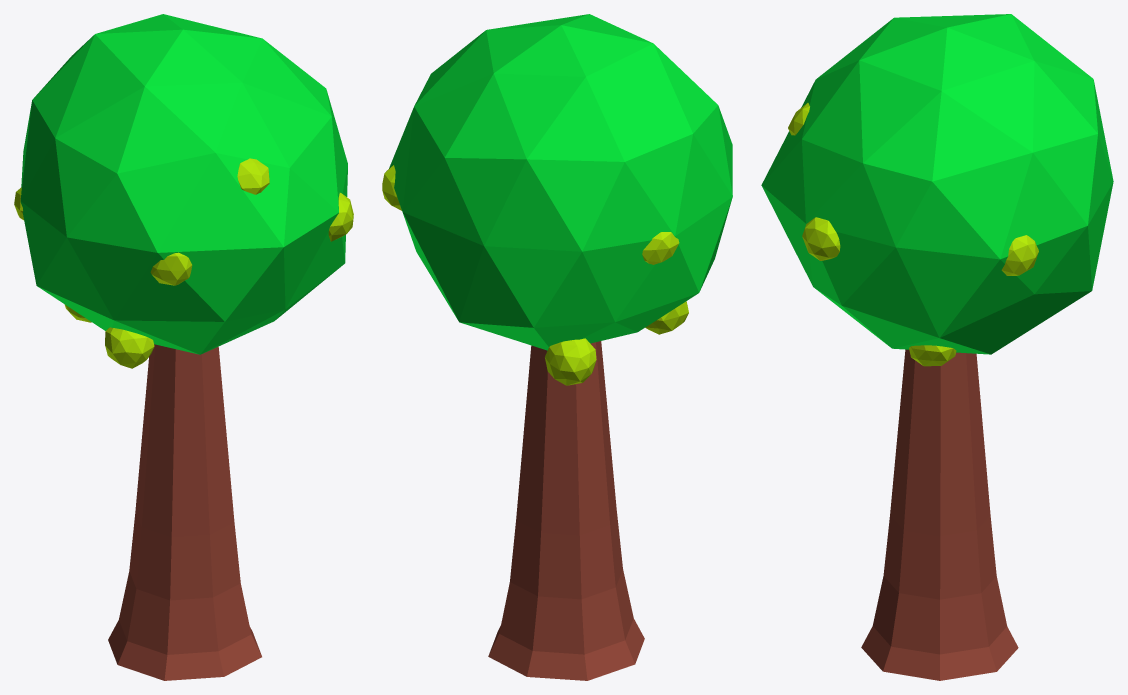
Rendered from PearTree.fbx.
3 views of the same model, side by side, from view 1: azimuth 30°, elevation 25°; view 2: azimuth 150°, elevation 25°; view 3: azimuth 270°, elevation 25° (orthographic).
Parts seen in each view (by area): view 1: Icosphere, Plane, Icosphere.007, Icosphere.001, Icosphere.010, Icosphere.004; view 2: Icosphere, Plane, Icosphere.002, Icosphere.003, Icosphere.007; view 3: Icosphere, Plane, Icosphere.004, Icosphere.005, Icosphere.009.
Boxes of the visible parts, left/top/right/bottom form: Icosphere: left=20, top=14, right=347, bottom=354; Plane: left=108, top=344, right=261, bottom=680; Icosphere.007: left=105, top=327, right=154, bottom=368; Icosphere.001: left=150, top=252, right=192, bottom=285; Icosphere.010: left=237, top=158, right=269, bottom=194; Icosphere.004: left=328, top=192, right=353, bottom=241; Icosphere: left=389, top=14, right=732, bottom=350; Plane: left=488, top=341, right=644, bottom=680; Icosphere.002: left=545, top=338, right=596, bottom=385; Icosphere.003: left=642, top=232, right=679, bottom=264; Icosphere.007: left=645, top=301, right=688, bottom=334; Icosphere: left=761, top=14, right=1113, bottom=354; Plane: left=861, top=349, right=1018, bottom=680; Icosphere.004: left=802, top=217, right=840, bottom=260; Icosphere.005: left=1001, top=235, right=1038, bottom=275; Icosphere.009: left=909, top=345, right=956, bottom=366.
Bounding box in the file's own units: 385 × 793 × 405.
